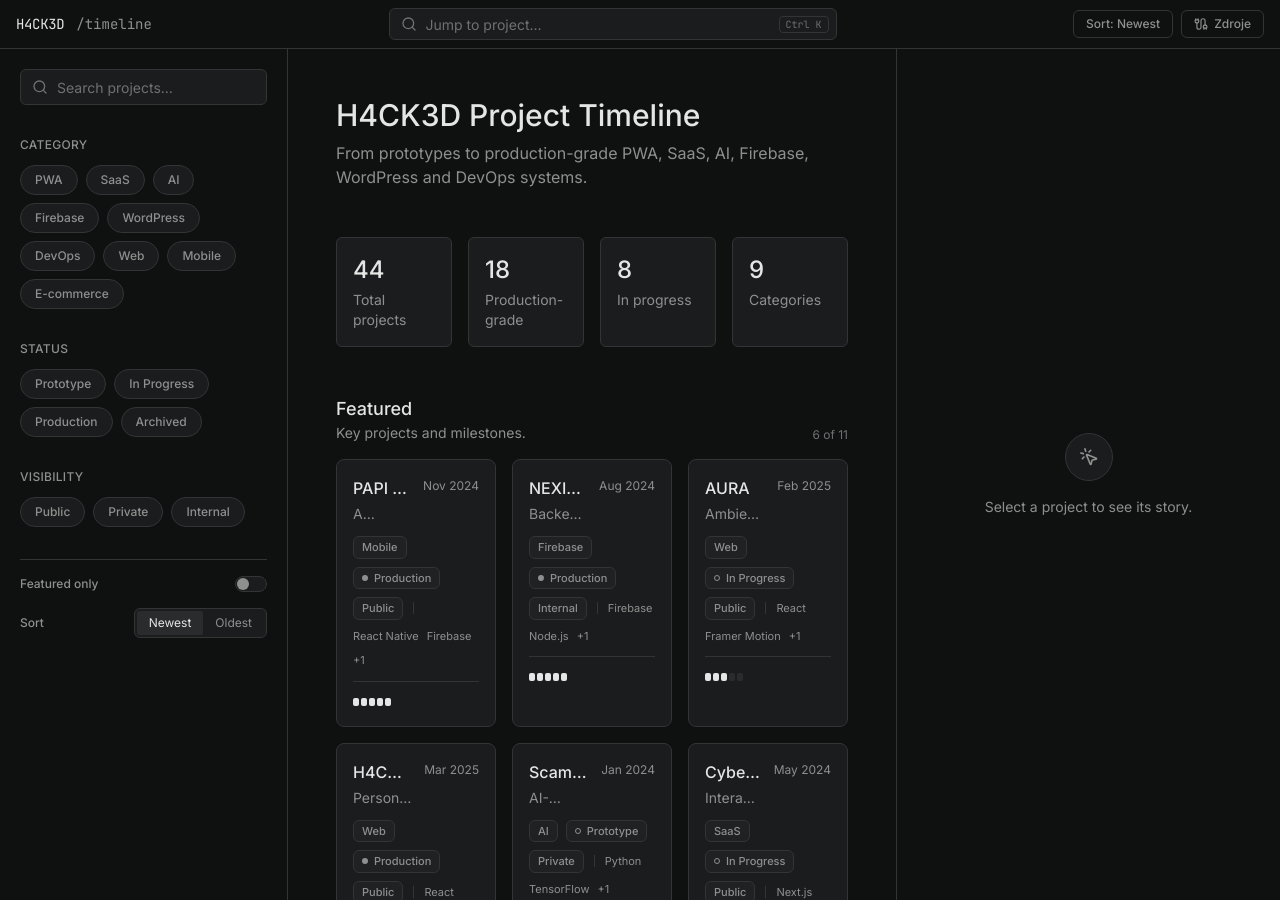
Test: App › filters by search and shows the empty state
Type "zzzz-no-match" into the search field labelled "Jump to project".
click(612, 24); type("zzzz-no-match")  # box [388, 8, 836, 40]
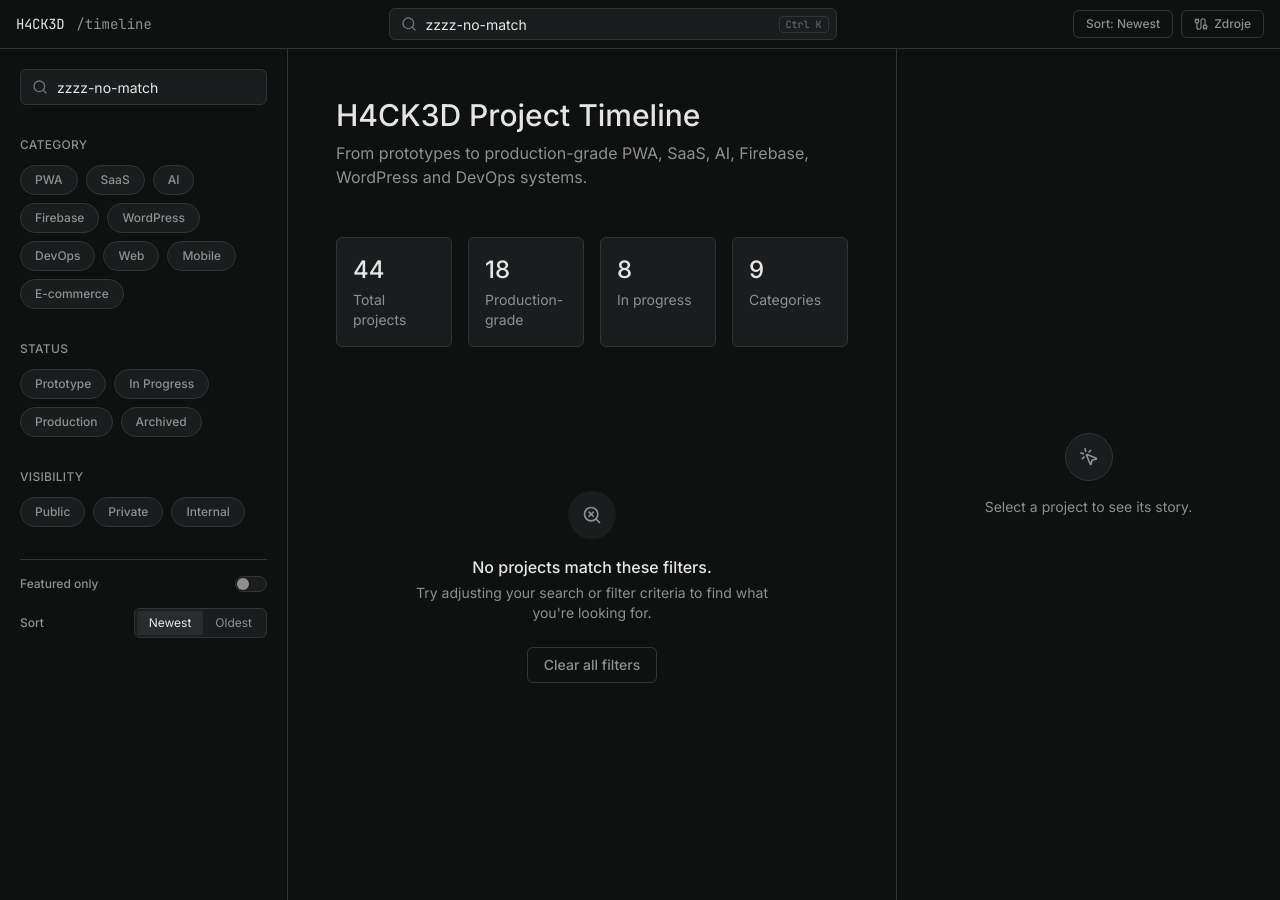
Expected: the heading "No projects match these filters." is shown, [472, 555, 712, 579]
Click the button "Clear all filters".
click(592, 665)  # box [527, 647, 657, 683]
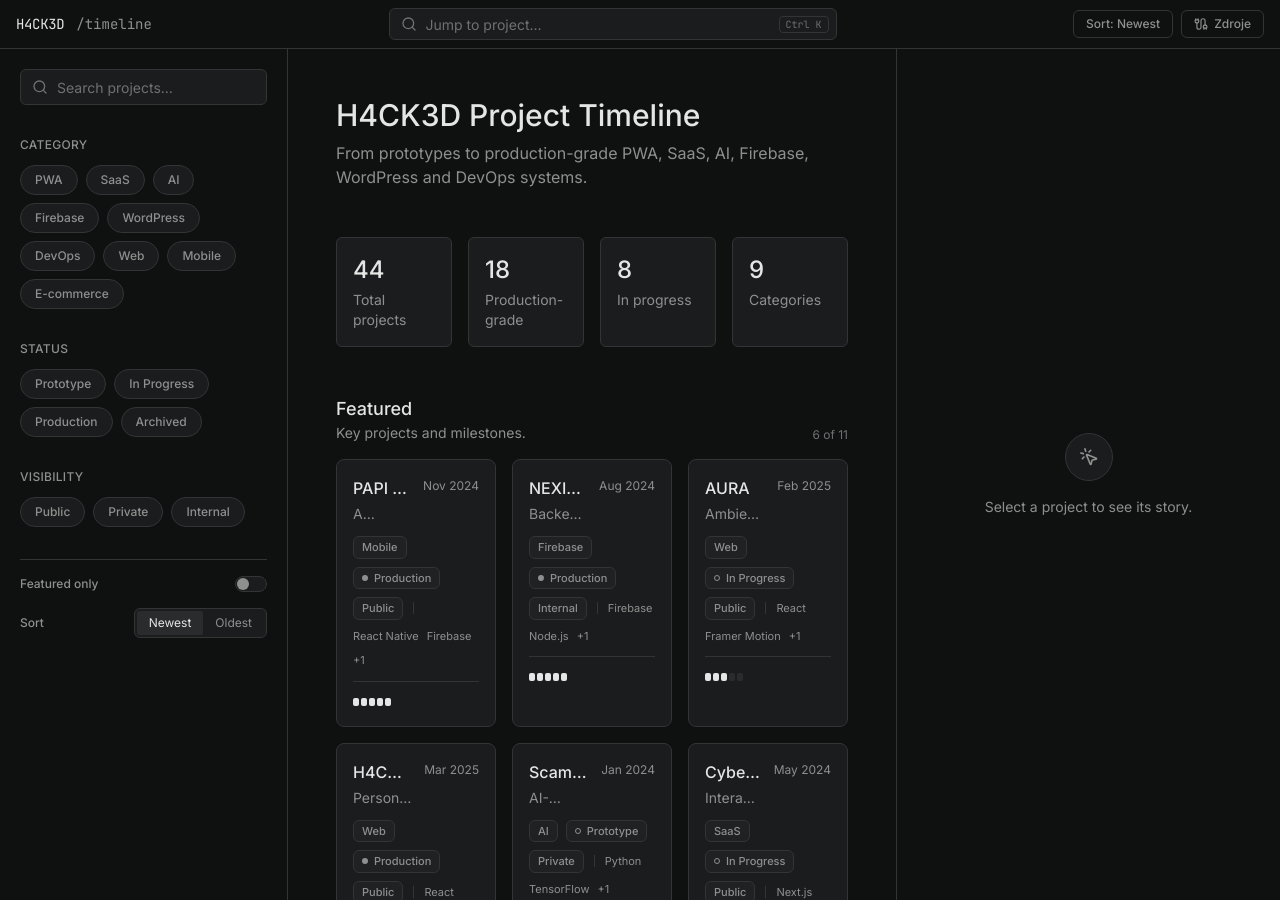
Expected: the heading "No projects match these filters." is gone
